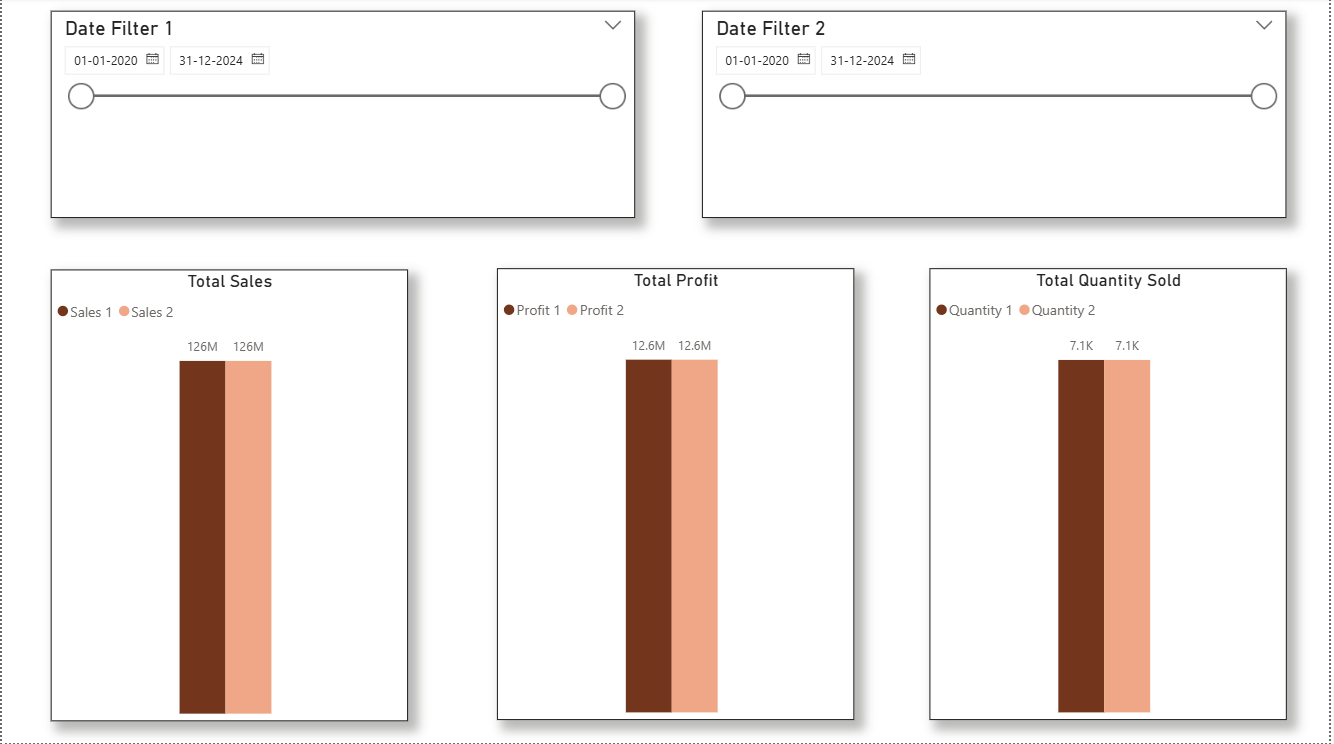

This screenshot's page, from the dashboard's own definition file:
{"tool":"powerbi","page":{"name":"Compare Sales/Profit/Quantity Sold Between any Two Periods ","canvas":[1280,720],"ordinal":2},"visuals":[{"type":"slicer","fields":{"Values":["Date Table 1.Date"]},"box":[46.9,13.6,564.2,200],"z":0},{"type":"slicer","fields":{"Values":["Date Table 2.Date"]},"box":[675.3,13.6,564.2,200],"z":1000},{"type":"clusteredColumnChart","title":"Total Sales","fields":{"Y":["Sum(Fact Table.Net Sales)","Date Table 1.Sum of Net Sales"]},"box":[46.9,263,344.4,435.8],"z":2000},{"type":"clusteredColumnChart","title":"Total Profit","fields":{"Y":["Sum(Fact Table.Profit)","Measure.Total Profits"]},"box":[477.8,261.7,344.4,435.8],"z":2001},{"type":"clusteredColumnChart","title":"Total Quantity Sold","fields":{"Y":["Sum(Fact Table.Units Sold)","Measure.Quantity Sold"]},"box":[895.1,261.7,344.4,435.8],"z":2002}]}

Visuals, with their boxes in screenshot pixels (x1, y1, x2, y2), scaled from the page's 1280x720 canvas onto the 1334x744 screenshot:
slicer - Date Table 1.Date: bbox=(49, 14, 637, 221)
slicer - Date Table 2.Date: bbox=(704, 14, 1292, 221)
"Total Sales" clusteredColumnChart: bbox=(49, 272, 408, 722)
"Total Profit" clusteredColumnChart: bbox=(498, 270, 857, 721)
"Total Quantity Sold" clusteredColumnChart: bbox=(933, 270, 1292, 721)
